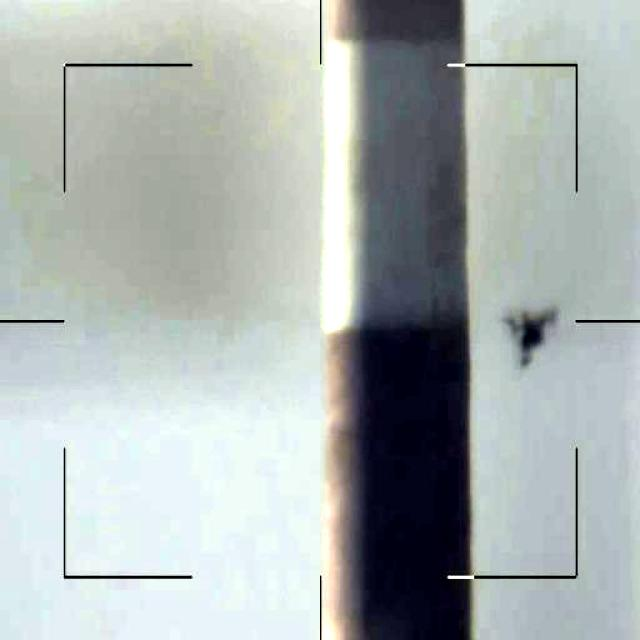bird: (501, 304, 566, 378)
